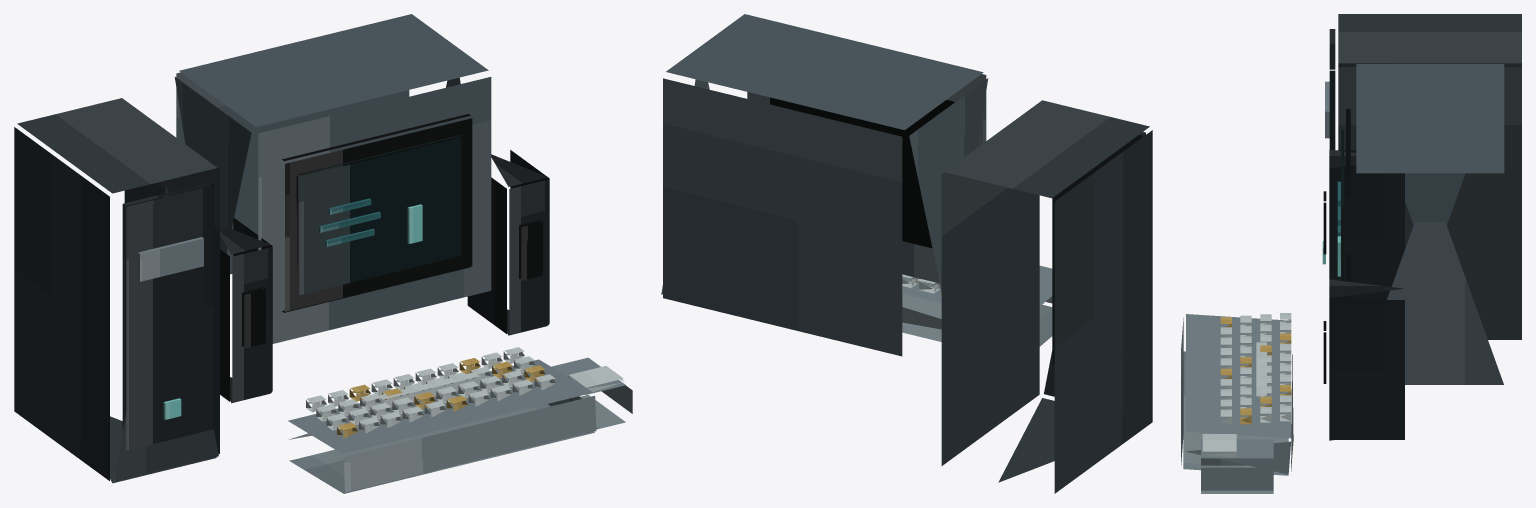
Rendered from retro_computer_tower_charcoal.glb.
3 renders of one model, left to right at view 1: azimuth 30°, elevation 25°; view 2: azimuth 150°, elevation 25°; view 3: azimuth 270°, elevation 25°, orthographic. The views are drawn at different scales.
Parts seen in each view (by area): view 1: MonitorShell, Tower, TowerFace, MonitorGlow, KeyboardBody, MonitorFace, Speaker_R, Speaker_L, DriveBay, Mouse, SpeakerCone_L, SpeakerCone_R (+2 smaller); view 2: MonitorShell, Tower, MonitorFace, KeyboardBody, TowerFace; view 3: MonitorShell, Tower, Speaker_R, KeyboardBody, Speaker_L, Mouse, TowerFace, MouseButton, MonitorFace, SpaceBar.
Part boxes in pixels (x1,y1,x2,y2): MonitorShell: (174,14,491,343); Tower: (14,98,219,483); TowerFace: (122,182,213,450); MonitorGlow: (296,135,462,295); KeyboardBody: (288,359,596,493); MonitorFace: (282,114,472,312); Speaker_R: (467,150,549,335); Speaker_L: (220,218,272,403); DriveBay: (138,237,203,281); Mouse: (548,357,632,429); SpeakerCone_L: (242,287,265,348); SpeakerCone_R: (519,220,542,280); MonitorShell: (661,14,988,356); Tower: (941,100,1152,493); MonitorFace: (770,97,954,248); KeyboardBody: (902,265,1052,346); TowerFace: (1052,132,1145,364); MonitorShell: (1356,64,1504,384); Tower: (1338,14,1521,339); Speaker_R: (1329,279,1404,440); KeyboardBody: (1181,314,1293,475); Speaker_L: (1329,149,1404,279); Mouse: (1201,439,1273,493); TowerFace: (1329,29,1335,150); MouseButton: (1202,434,1236,457); MonitorFace: (1346,109,1350,279); SpaceBar: (1256,342,1266,396).
Size of the model in its own units: 1.27 by 0.84 by 0.8659.
1 material, 1 textured.
